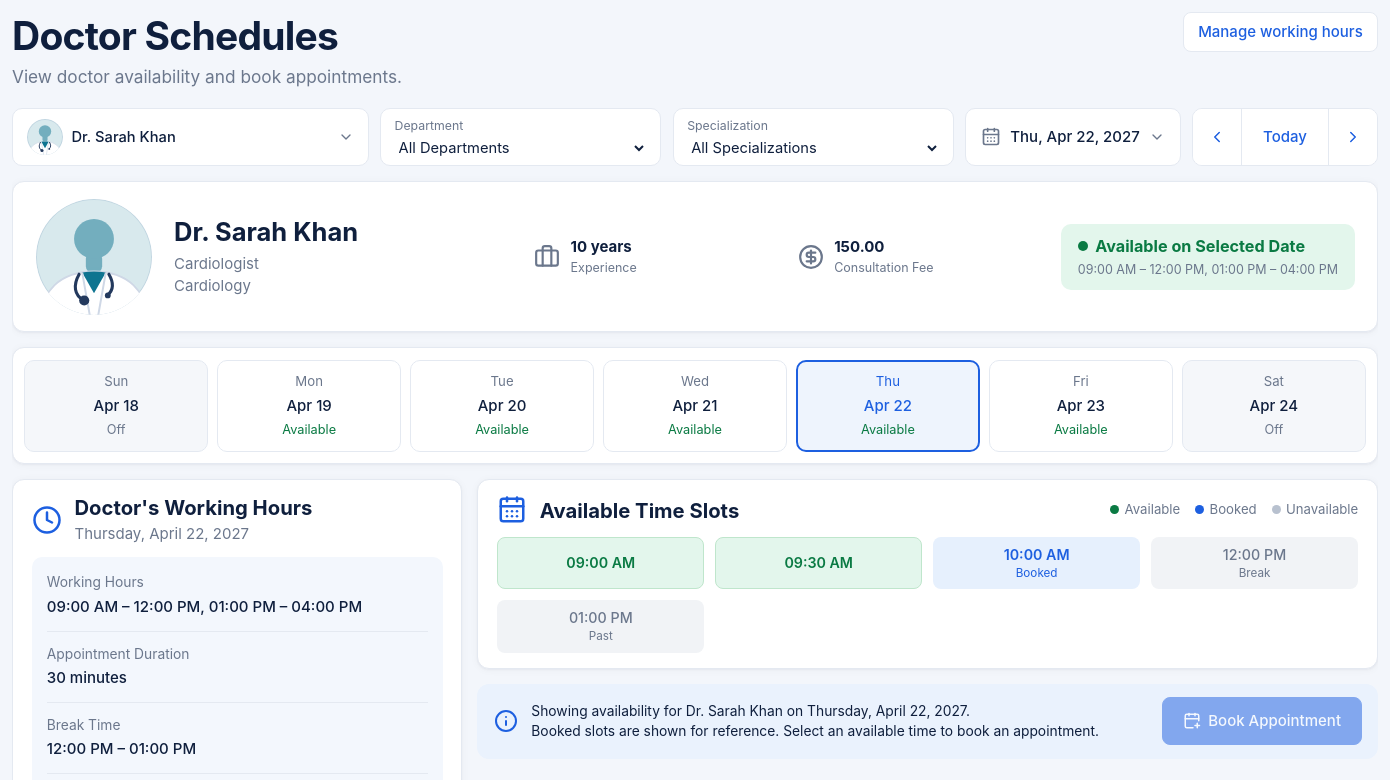
Doctor Schedules › a new date drops the chosen time
The width and height of the screenshot is (1390, 780).
Click the button with aria-label "09:00 AM, available" at x=601, y=563, box [497,536,704,589]
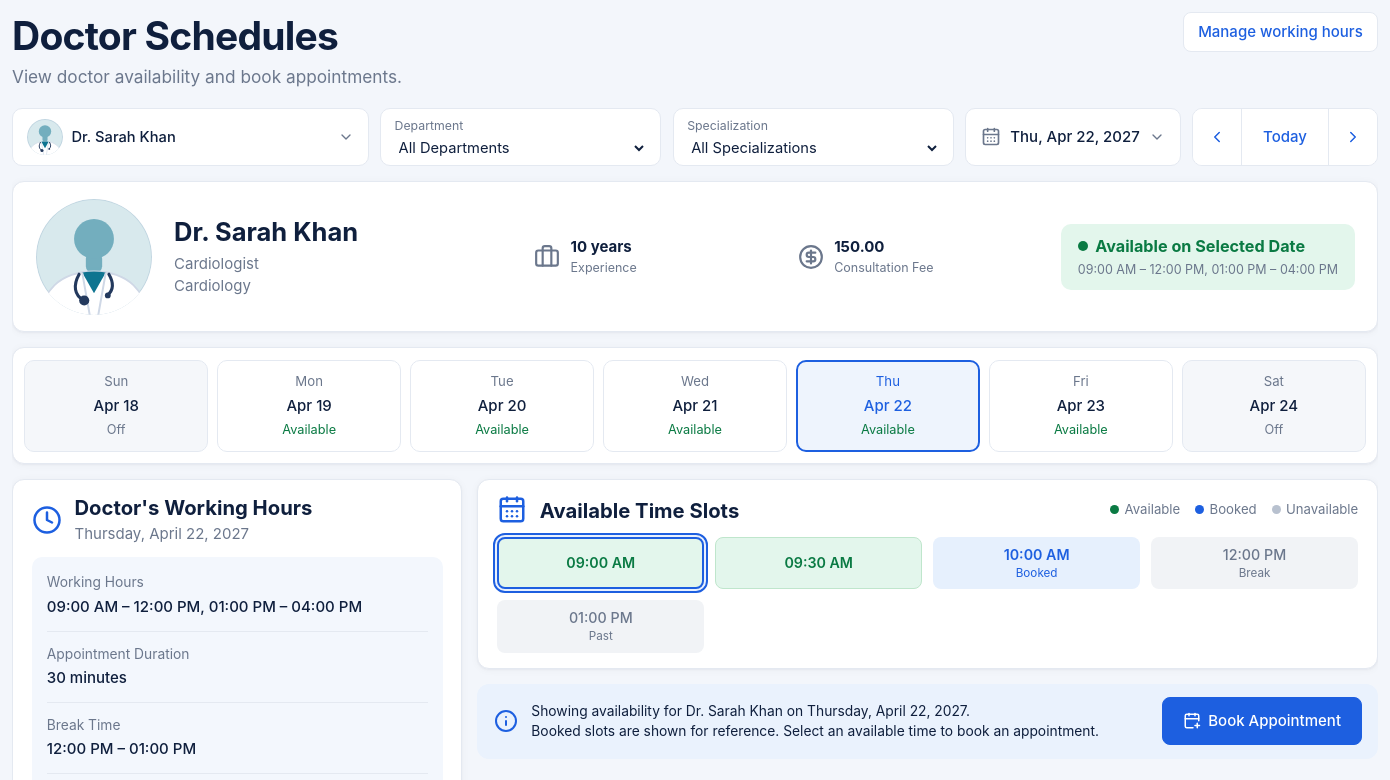
Check: the button "Book Appointment" is enabled, box [1162,697,1362,745]
Click the button named "Next day" at x=1352, y=137, box [1328,109,1377,165]
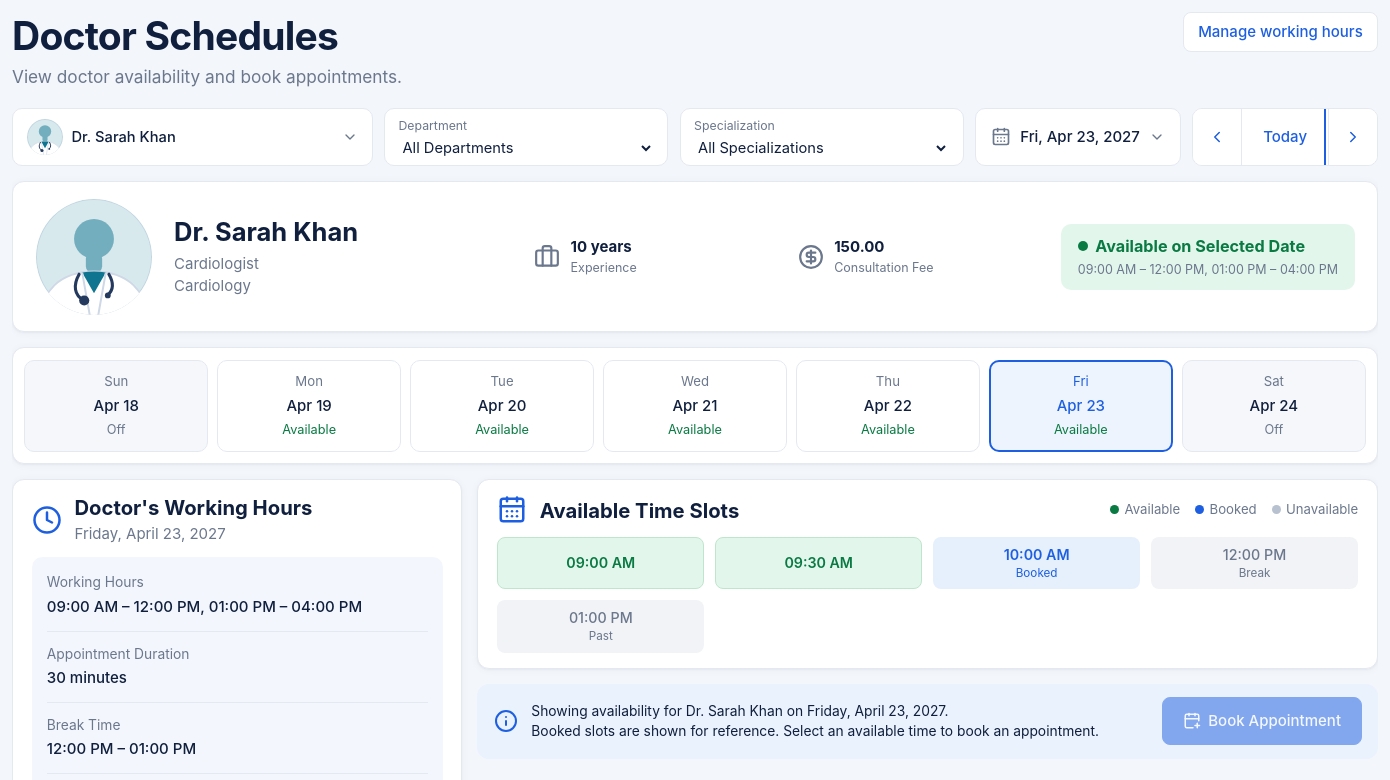
Check: the button "Book Appointment" is disabled, box [1162,697,1362,745]
